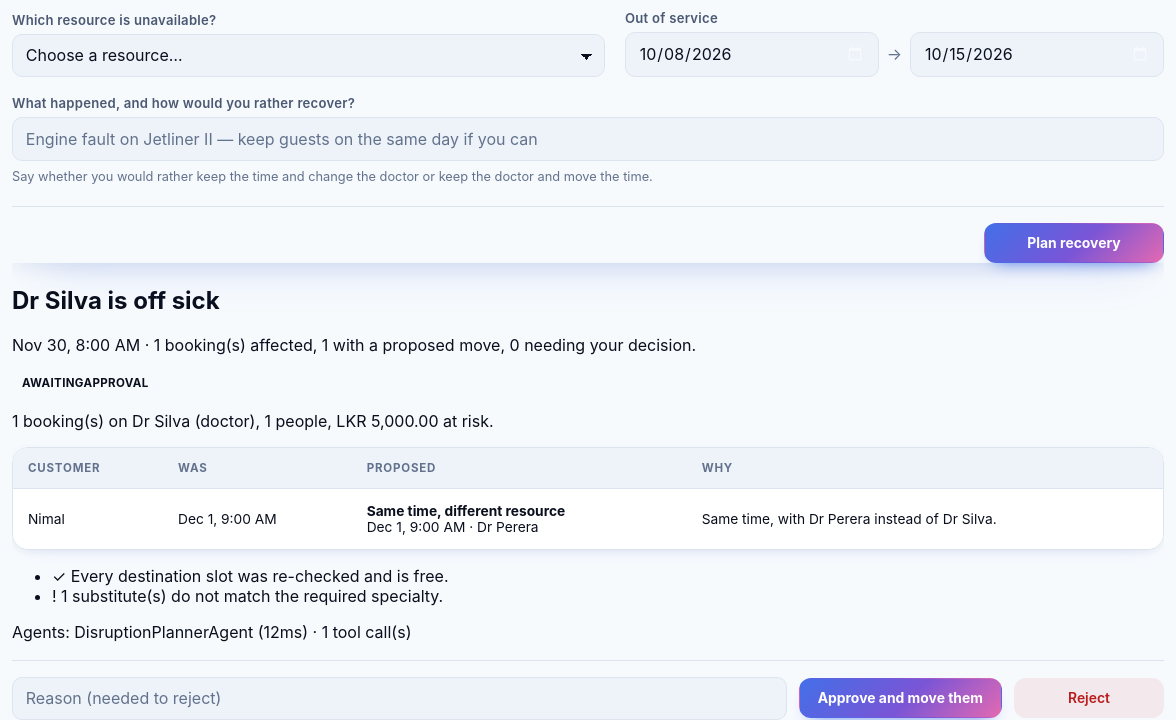
DisruptionRecoveryPage › applies the recovery and reports the outcome
(page scrolled)
Click the button "Approve and move them" at coordinates (900, 698), box [799,678,1002,718]
(page scrolled)
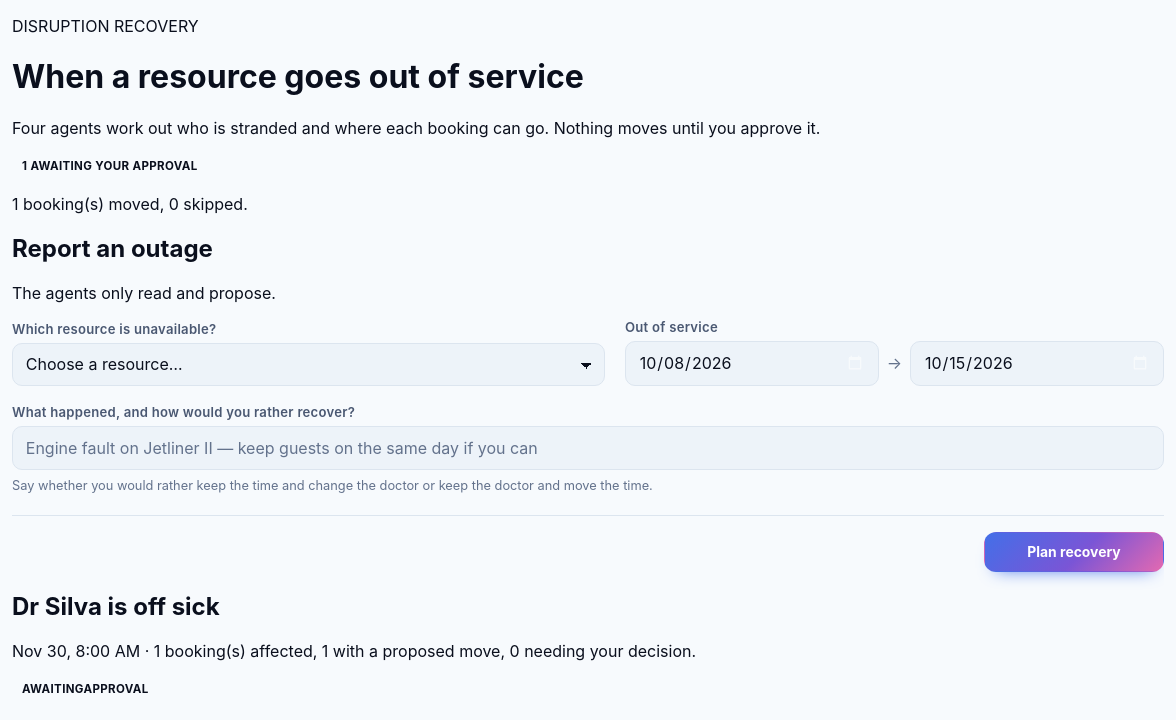
Expected: the text "1 booking(s) moved, 0 skipped." is shown, [12,194,248,214]
